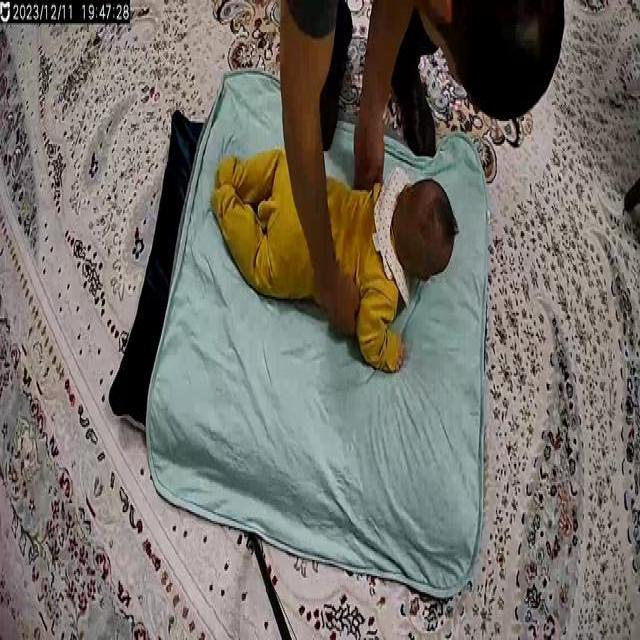baby: (213, 153, 460, 375)
